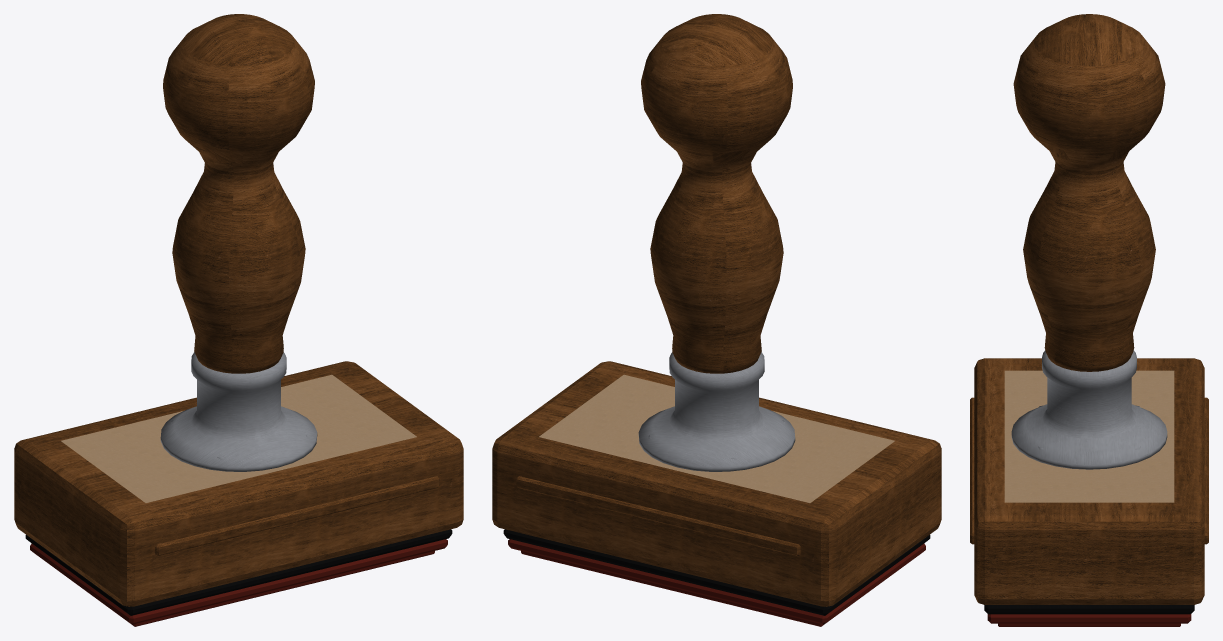
Rendered from stamp.glb.
3 renders of one model, left to right at view 1: azimuth 30°, elevation 25°; view 2: azimuth 150°, elevation 25°; view 3: azimuth 270°, elevation 25°, orthographic.
Visible parts, largest first — view 1: Block, Handle, IndexLabel, Ferrule, Face, Cushion; view 2: Block, Handle, IndexLabel, Ferrule, Face, Cushion; view 3: Handle, Block, Ferrule, IndexLabel, Face, Cushion.
Part boxes in pixels (x1,y1,x2,y2): Block: (14, 361, 463, 606); Handle: (163, 14, 314, 373); IndexLabel: (61, 374, 416, 502); Ferrule: (160, 352, 317, 471); Face: (30, 539, 447, 626); Cushion: (25, 529, 452, 615); Block: (492, 361, 941, 606); Handle: (641, 14, 792, 373); IndexLabel: (539, 374, 894, 502); Ferrule: (638, 352, 795, 471); Face: (508, 539, 925, 626); Cushion: (503, 529, 930, 615); Handle: (1013, 14, 1165, 371); Block: (970, 358, 1208, 604); Ferrule: (1011, 350, 1167, 469); IndexLabel: (1004, 370, 1174, 502); Face: (987, 614, 1191, 626); Cushion: (984, 605, 1194, 614).
Bounding box in the file's own units: 5.8 × 8.66 × 3.52.
Materials: 5 (5 with a texture image).
